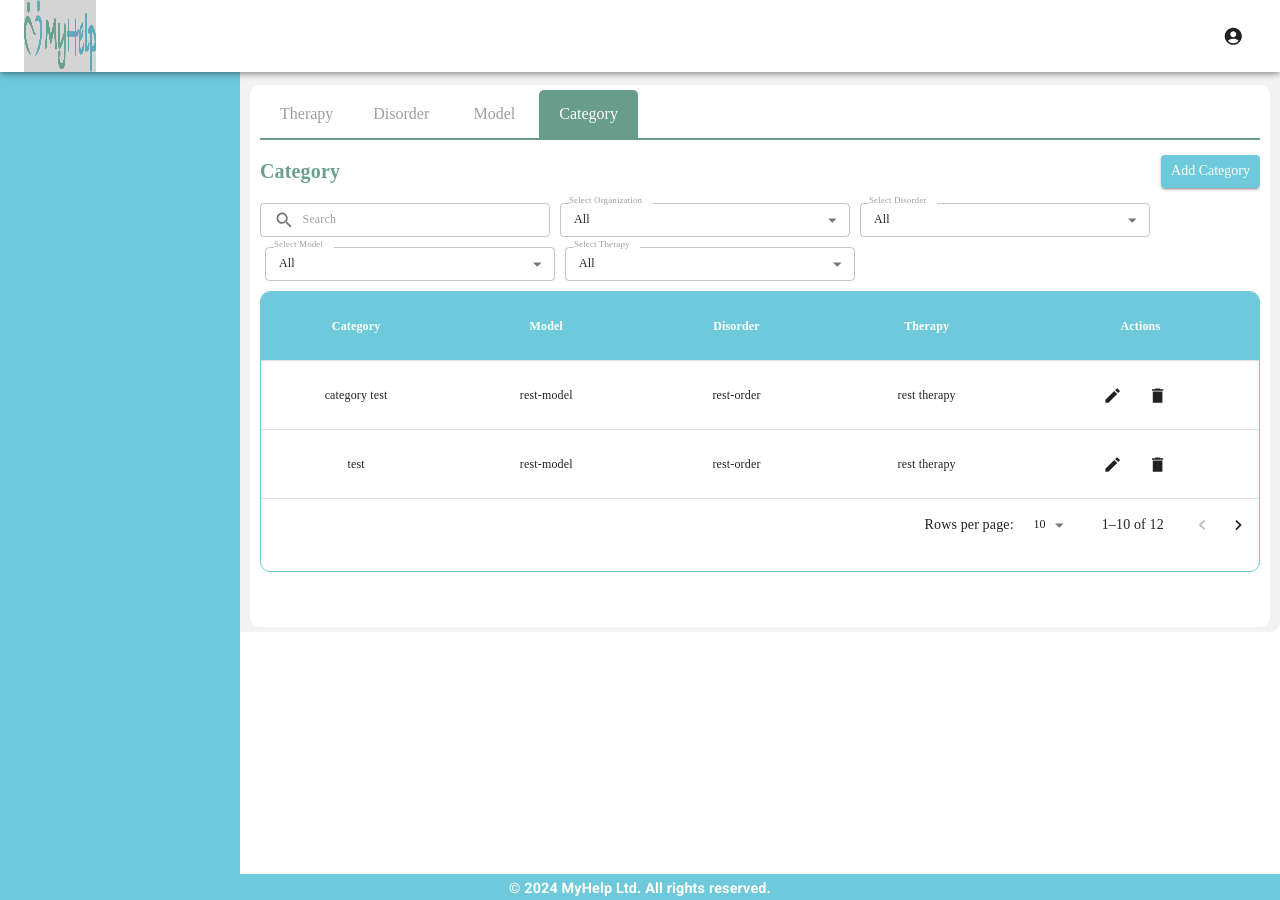
Admin category list › should delete category
The width and height of the screenshot is (1280, 900).
What coordinates should you click on to do the following:
click the button with test id "iconButton_delete_categoryid1"
I would click on:
 (1158, 395)
Its box is [1140,377,1175,413].
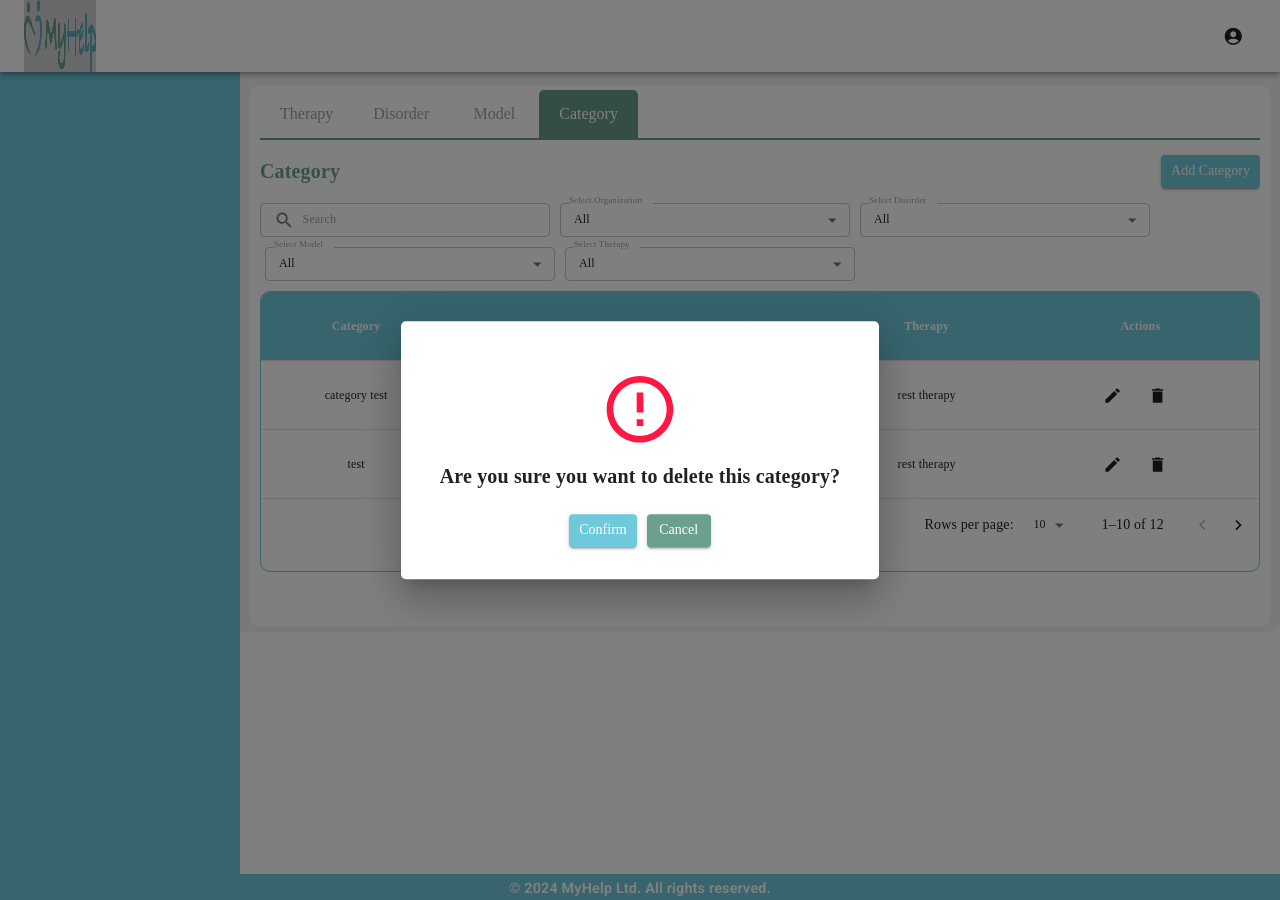
What coordinates should you click on to do the following:
click the button with test id "confirmButton"
I would click on:
 (603, 531)
Its box is [569,514,637,547].
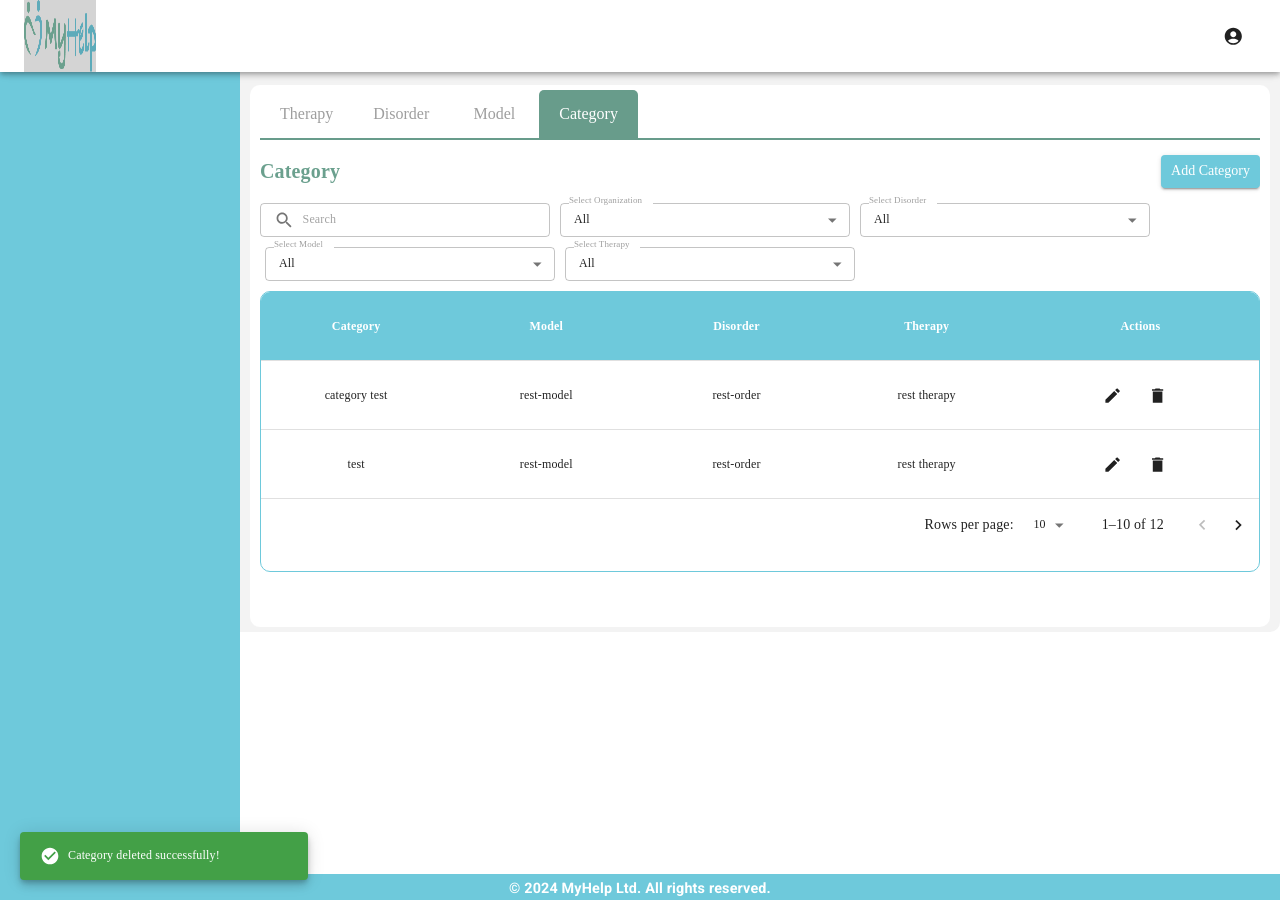
Now the text "Category deleted successfully!" is shown, box [40,846,220,866]
